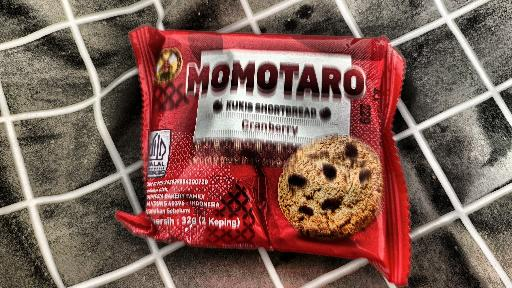momotaro: (45, 28, 462, 247)
